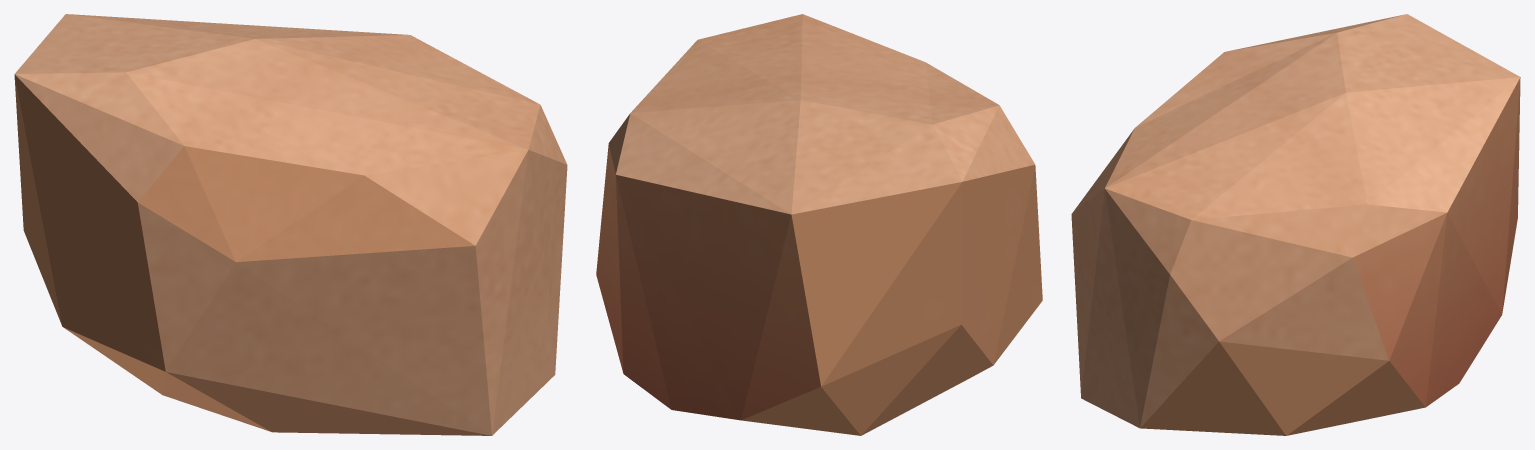
Rendered from tiny.fbx.
The picture shows the model from 3 angles, left to right: view 1: azimuth 30°, elevation 25°; view 2: azimuth 150°, elevation 25°; view 3: azimuth 270°, elevation 25°; orthographic projection. The views are drawn at different scales.
Parts seen in each view (by area): view 1: tinыyrocks_1; view 2: tinыyrocks_1; view 3: tinыyrocks_1.
Part boxes in pixels (x1,y1,x2,y2): tinыyrocks_1: (14, 14, 567, 435); tinыyrocks_1: (596, 14, 1042, 435); tinыyrocks_1: (1071, 14, 1520, 435).
Bounding box in the file's own units: 0.3675 × 0.2525 × 0.3781.
1 material, 1 textured.
